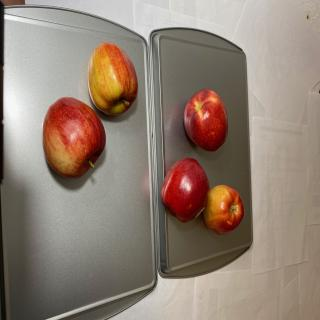Apple: (42, 96, 106, 178), (88, 42, 138, 115), (160, 157, 210, 223), (183, 88, 228, 152), (203, 184, 244, 235)
